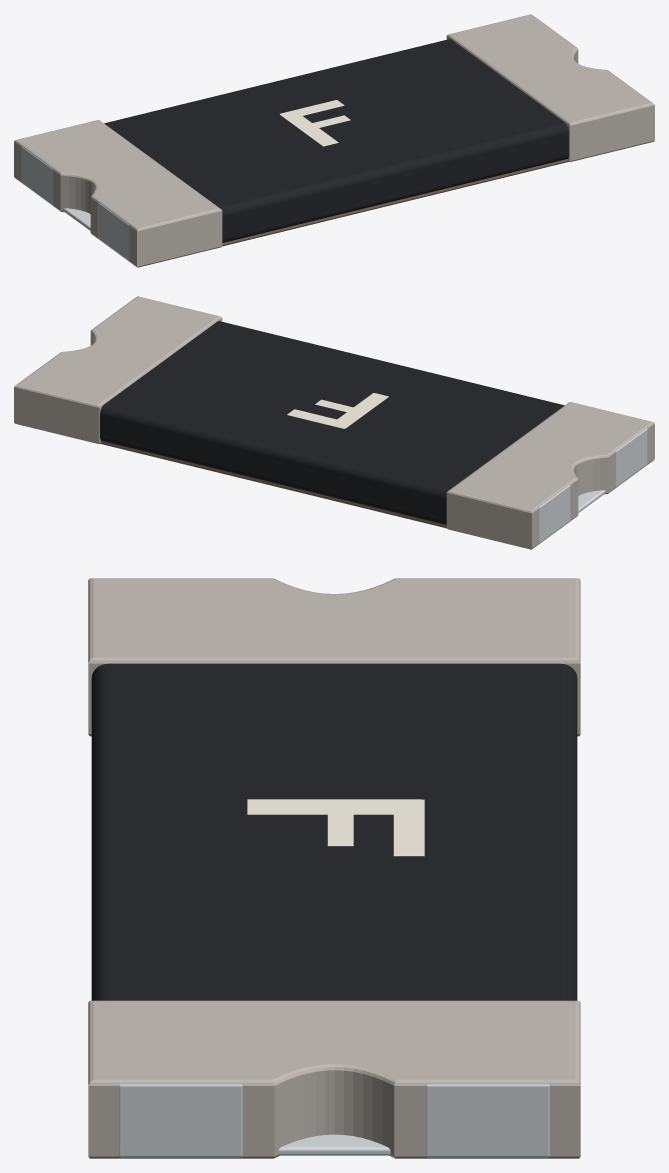
Rendered from components-31.glb.
3 views of the same model, one above another, from view 1: azimuth 30°, elevation 25°; view 2: azimuth 150°, elevation 25°; view 3: azimuth 270°, elevation 25° (orthographic). The views are drawn at different scales.
Visible parts, largest first — view 1: body, left, right, mark; view 2: body, left, right, mark; view 3: body, right, left, mark.
Boxes of the visible parts, box(x1,y1,x2,y2) form: body: box(104, 39, 568, 246); left: box(14, 120, 222, 267); right: box(446, 14, 654, 161); mark: box(280, 100, 350, 146); body: box(100, 321, 564, 528); left: box(446, 402, 654, 549); right: box(14, 296, 222, 443); mark: box(287, 393, 388, 428); body: box(91, 663, 577, 1000); right: box(88, 1000, 580, 1158); left: box(88, 578, 580, 736); mark: box(247, 799, 424, 856).
Size of the model in its own units: 2.88 by 0.2155 by 1.19.
